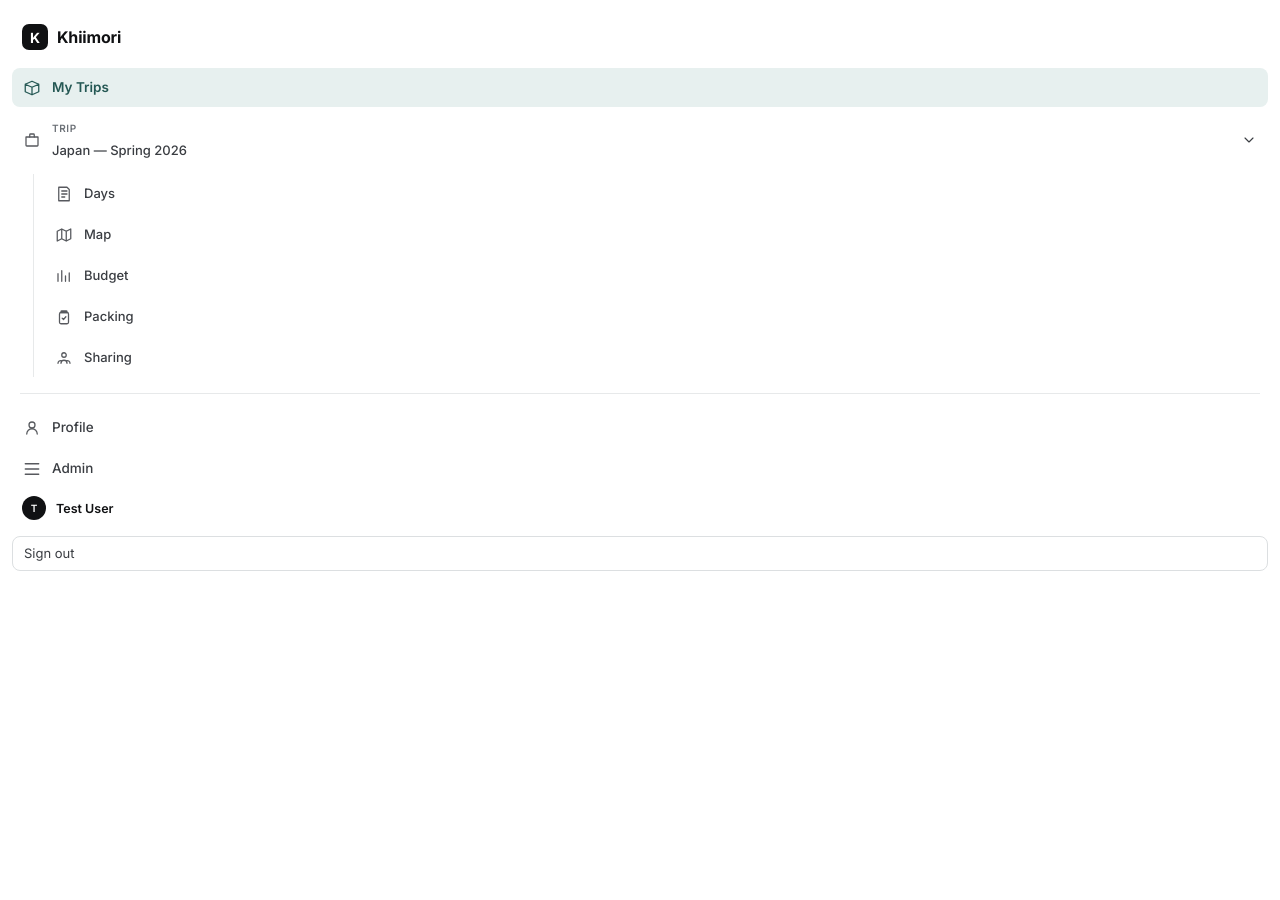
Test: SidebarNav trip switcher › opens a dropdown that groups current & upcoming apart from past
The width and height of the screenshot is (1280, 900).
Click the button named "switch trip" at (1249,140), box [1234, 124, 1264, 154]
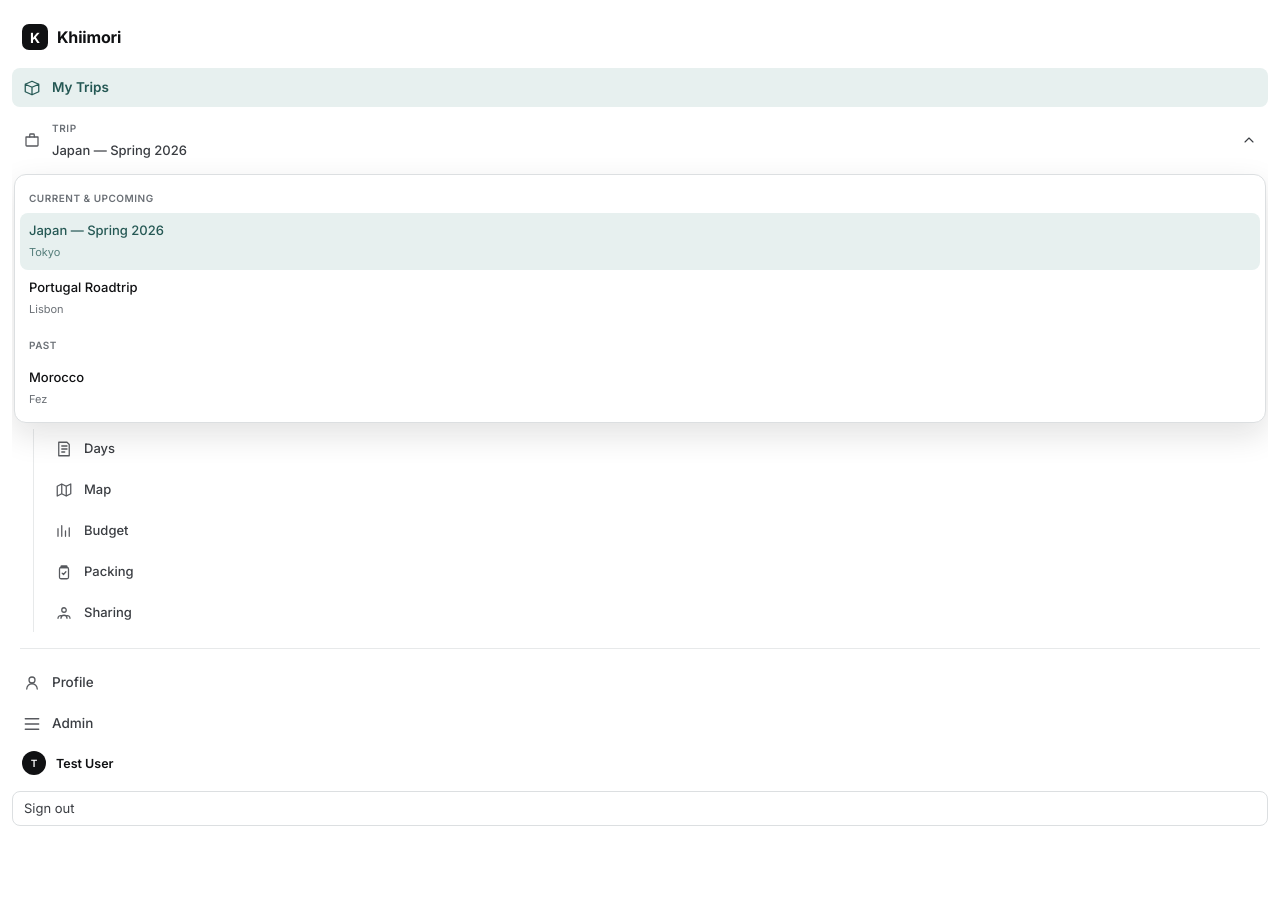
Expected: the list item "Current & upcoming" is shown, [29, 192, 154, 204]
Expected: the list item "Past" is shown, [29, 339, 57, 351]
Expected: the option "Portugal Roadtrip Lisbon" is shown, [20, 270, 1260, 327]
